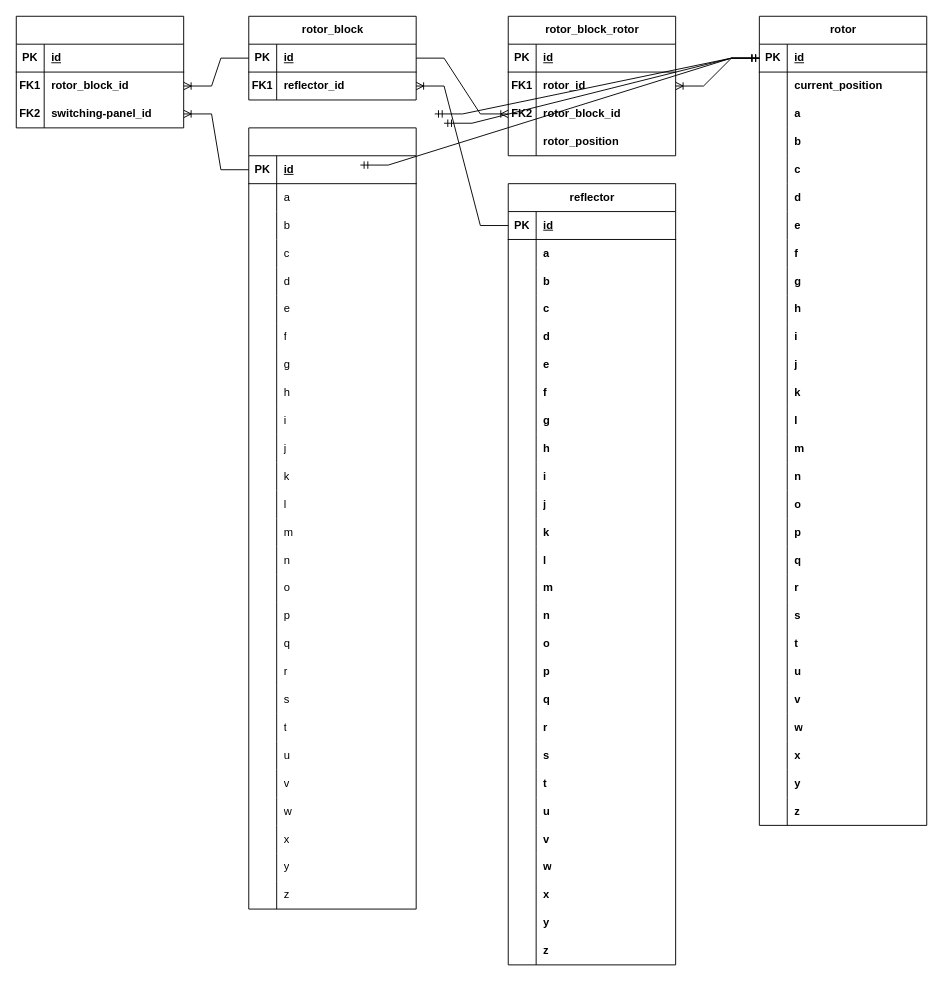
This 943x981 diagram has some shape labels left out. The shapes that lost their labels are listed below. From the top down, each one's box as (x1, y1, x2, y2) in pixels, then its label:
(15, 15, 184, 128): machine
(248, 127, 416, 909): switching_ panel
